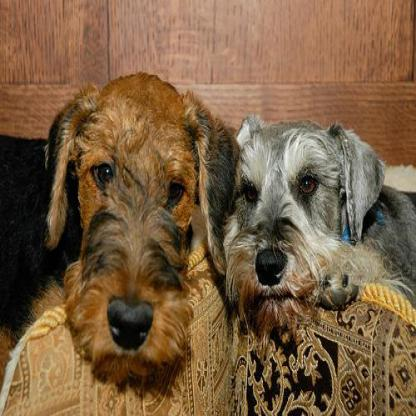dog: (52, 81, 208, 384), (230, 100, 384, 325)
